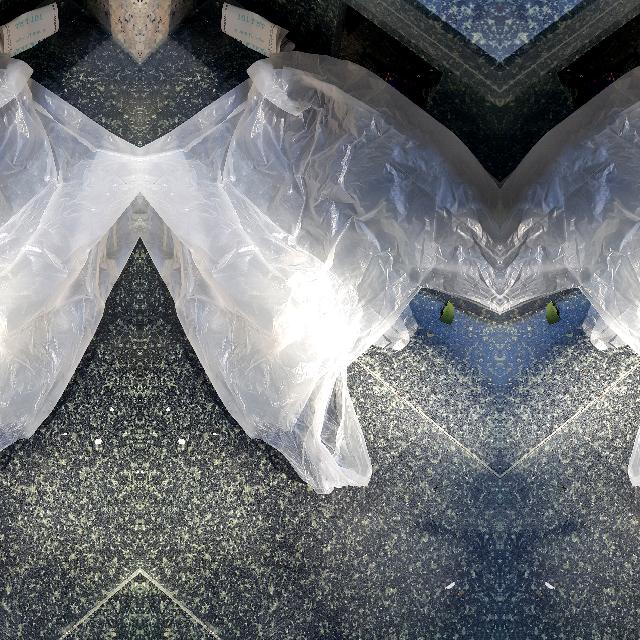Plastic: (140, 45, 500, 508), (0, 44, 140, 507), (500, 44, 640, 507)
